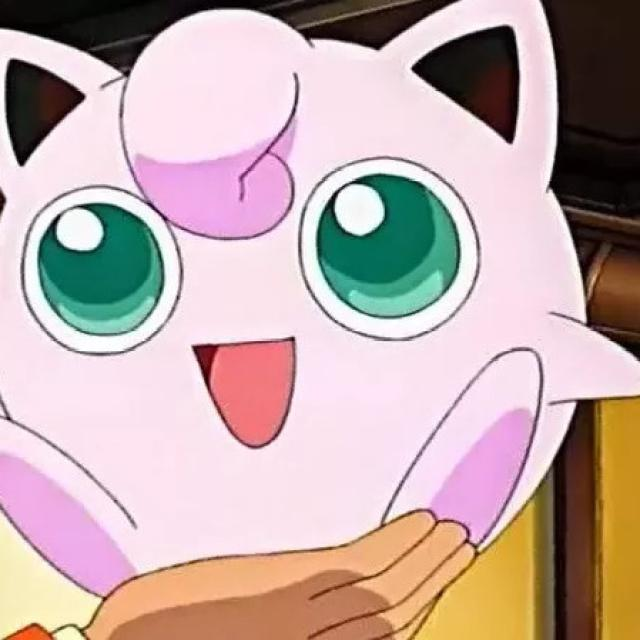Jigglypuff: (0, 0, 577, 546)
